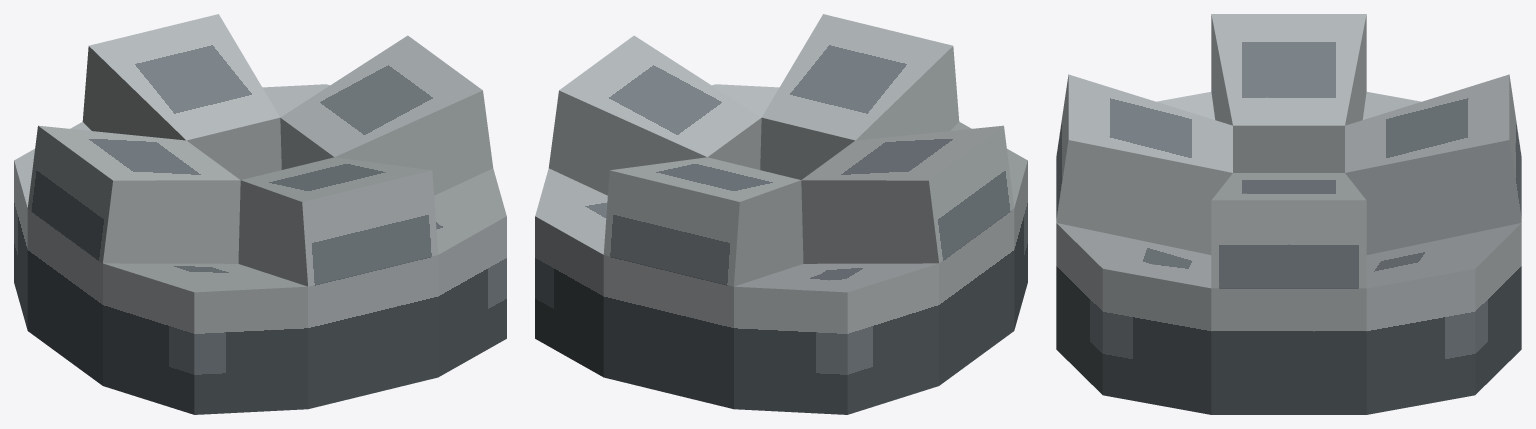
Rendered from FireTrap.fbx.
3 renders of one model, left to right at view 1: azimuth 30°, elevation 25°; view 2: azimuth 150°, elevation 25°; view 3: azimuth 270°, elevation 25°, orthographic. The views are drawn at different scales.
Parts seen in each view (by area): view 1: cuboid; view 2: cuboid; view 3: cuboid.
Part boxes in pixels (<box>): cuboid: <box>14,14,506,414</box>; cuboid: <box>535,14,1027,414</box>; cuboid: <box>1056,14,1521,414</box>.
Bounding box in the file's own units: 62.5 × 31.03 × 62.5.
1 material, 1 textured.
